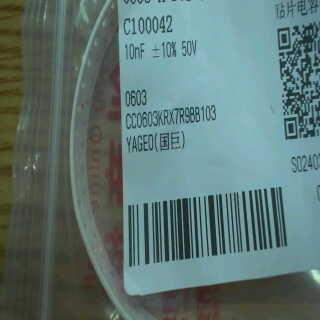10nF: (122, 39, 149, 62)
